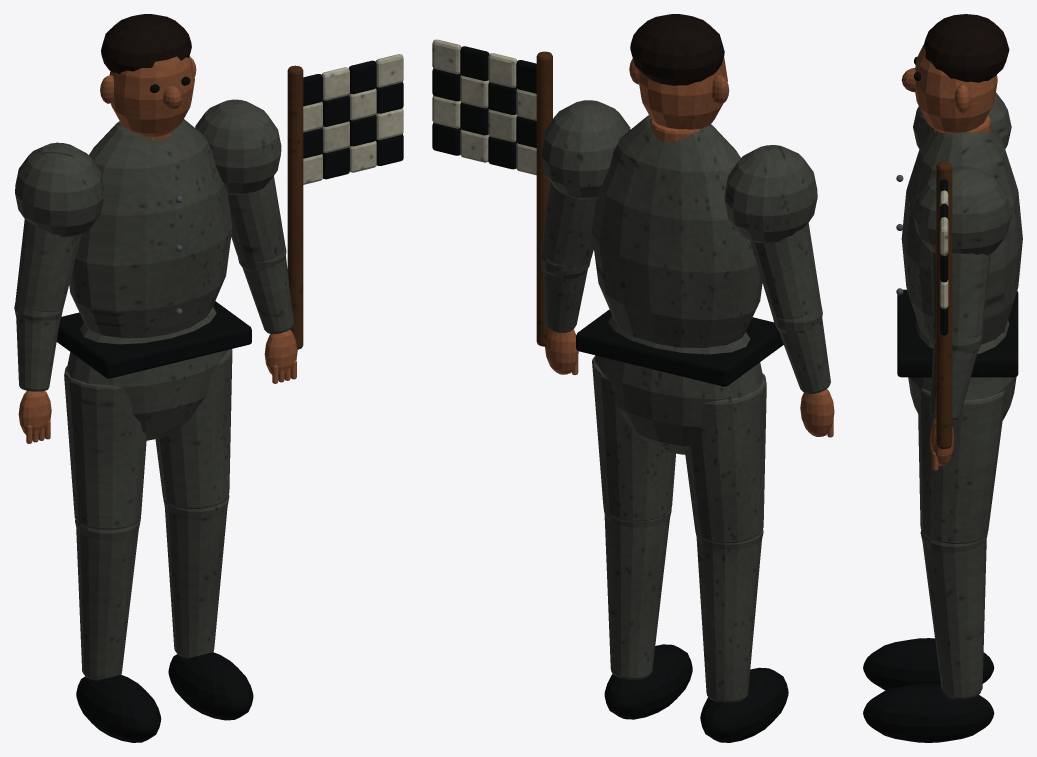
The model's file is PROP-4BAFAB2A8AC8_lod0.glb.
The picture shows the model from 3 angles, left to right: view 1: azimuth 30°, elevation 25°; view 2: azimuth 150°, elevation 25°; view 3: azimuth 270°, elevation 25°; orthographic projection. The views are drawn at different scales.
Parts seen in each view (by area): view 1: torso.039, thigh.038, calf.038, shoulder.039, shoe.038, upper_arm.039, pelvis.038, belt.038, checker_flag.002, checker_flag.003, forearm.039, head.038 (+6 smaller); view 2: torso.039, thigh.038, calf.038, shoulder.039, pelvis.038, upper_arm.039, shoe.038, checker_flag.002, belt.038, checker_flag.003, hair_cap.038, forearm.039 (+5 smaller); view 3: torso.039, thigh.038, shoe.038, calf.038, shoulder.039, hair_cap.038, belt.038, head.038, flag_pole.001, upper_arm.039, pelvis.038, forearm.039 (+6 smaller).
Boxes of the visible parts, x1=… form: torso.039: x1=69, y1=119, x2=232, y2=338; thigh.038: x1=64, y1=349, x2=232, y2=529; calf.038: x1=76, y1=507, x2=227, y2=680; shoulder.039: x1=15, y1=99, x2=281, y2=236; shoe.038: x1=76, y1=652, x2=253, y2=742; upper_arm.039: x1=15, y1=176, x2=284, y2=312; pelvis.038: x1=66, y1=306, x2=228, y2=440; belt.038: x1=56, y1=301, x2=251, y2=378; checker_flag.002: x1=303, y1=54, x2=403, y2=184; checker_flag.003: x1=303, y1=60, x2=403, y2=179; forearm.039: x1=16, y1=256, x2=294, y2=391; head.038: x1=109, y1=56, x2=194, y2=136; torso.039: x1=592, y1=115, x2=762, y2=347; thigh.038: x1=592, y1=355, x2=766, y2=543; calf.038: x1=604, y1=515, x2=761, y2=702; shoulder.039: x1=541, y1=100, x2=817, y2=243; pelvis.038: x1=594, y1=315, x2=763, y2=454; upper_arm.039: x1=541, y1=181, x2=821, y2=319; shoe.038: x1=604, y1=644, x2=788, y2=742; checker_flag.002: x1=432, y1=39, x2=536, y2=175; belt.038: x1=576, y1=309, x2=783, y2=386; checker_flag.003: x1=432, y1=46, x2=536, y2=169; hair_cap.038: x1=630, y1=14, x2=724, y2=85; forearm.039: x1=542, y1=266, x2=830, y2=393; torso.039: x1=901, y1=126, x2=1022, y2=344; thigh.038: x1=917, y1=387, x2=1005, y2=543; shoe.038: x1=863, y1=638, x2=994, y2=742; calf.038: x1=922, y1=539, x2=986, y2=699; shoulder.039: x1=913, y1=92, x2=1011, y2=255; hair_cap.038: x1=923, y1=14, x2=1009, y2=82; belt.038: x1=897, y1=289, x2=1018, y2=377; head.038: x1=915, y1=45, x2=997, y2=133; flag_pole.001: x1=936, y1=161, x2=952, y2=448; upper_arm.039: x1=930, y1=252, x2=990, y2=337; pelvis.038: x1=908, y1=320, x2=1016, y2=420; forearm.039: x1=929, y1=341, x2=977, y2=420.
Size of the model in its own units: 0.9987 by 1.71 by 0.3561.
Materials: 7 (7 with a texture image).
